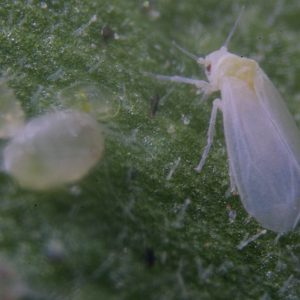Tobacco Whitefly: (197, 40, 297, 245)
